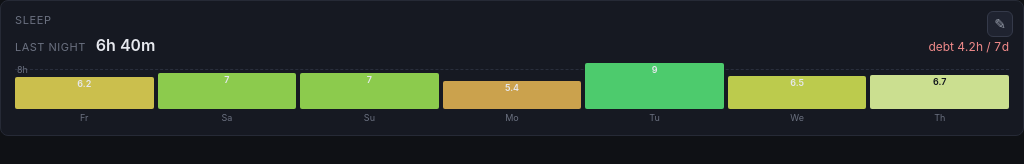
SleepBlock inline edit › disables Save when hours is empty, zero, or negative (quality irrelevant)
Click the button with test id "block-edit".
click(1000, 24)  # box x1=987 y1=11 x2=1013 y2=37
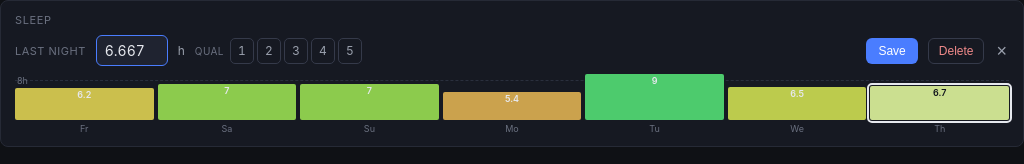
Clear the field with test id "sleep-hours-input" at (132, 50), box x1=96 y1=35 x2=168 y2=66
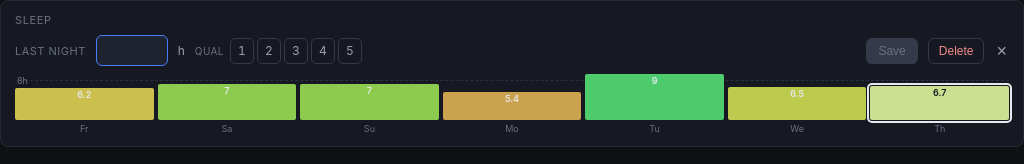
Check: the button with test id "sleep-save" is disabled, box x1=866 y1=38 x2=918 y2=64
Type "0" into the field with test id "sleep-hours-input".
click(132, 50); type("0")  # box x1=96 y1=35 x2=168 y2=66
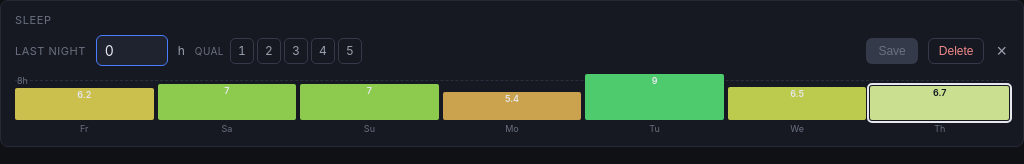
Check: the button with test id "sleep-save" is disabled, box x1=866 y1=38 x2=918 y2=64
Replace the text in the field with test id "sleep-hours-input" with "-1" at (132, 50), box x1=96 y1=35 x2=168 y2=66
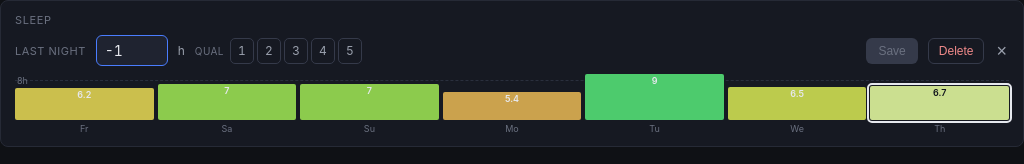
Check: the button with test id "sleep-save" is disabled, box x1=866 y1=38 x2=918 y2=64
Replace the text in the field with test id "sleep-hours-input" with "7.5" at (132, 50), box x1=96 y1=35 x2=168 y2=66
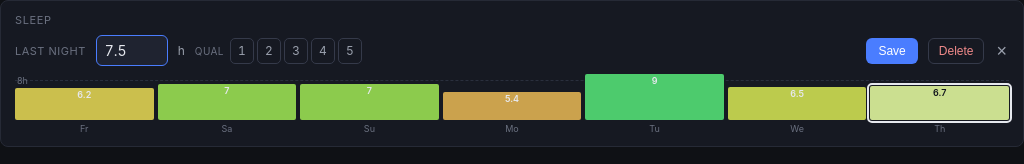
Check: the button with test id "sleep-save" is enabled, box x1=866 y1=38 x2=918 y2=64
